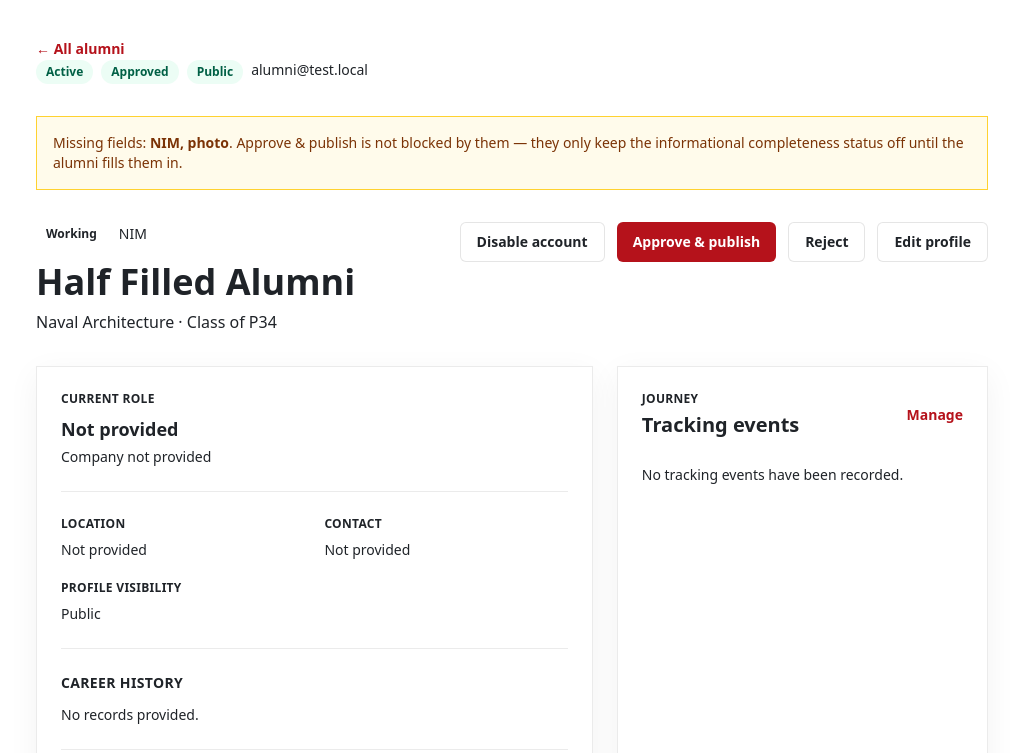
it: Alumni detail – review state › keeps Program out of the admin edit form and out of its payload
The width and height of the screenshot is (1024, 753).
Click the button "Edit profile" at x=933, y=242, box [878,222,988,262]
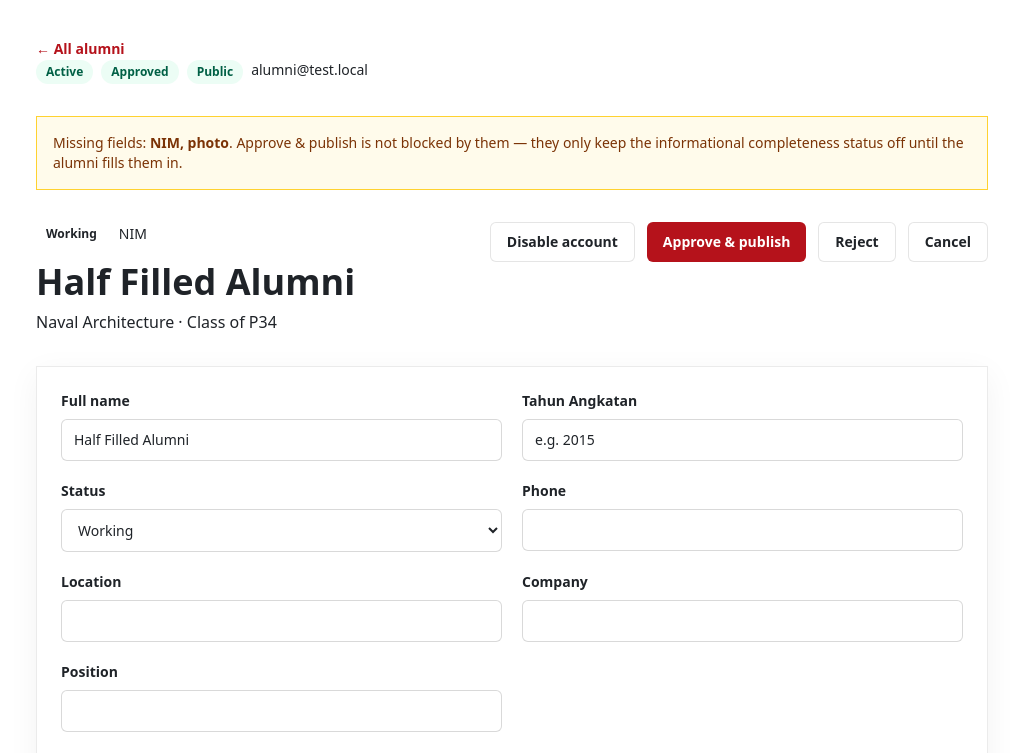
expect the text "Naval Architecture · Class of P34" is shown: met, box [36,311,277,333]
Replace the text in the field showing "Half Filled Alumni" below "Full name" with "Renamed By Admin" at x=282, y=440, box [61,419,502,461]
(page scrolled)
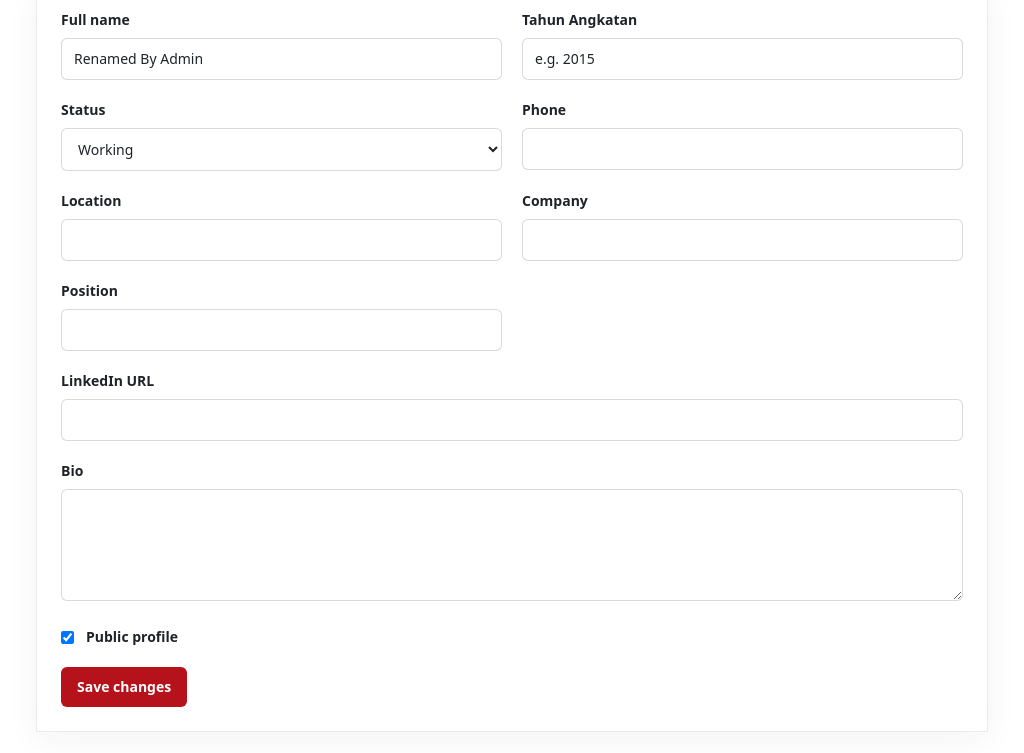
Click the button "Save changes" at x=124, y=687, box [61,667,187,707]
(page scrolled)
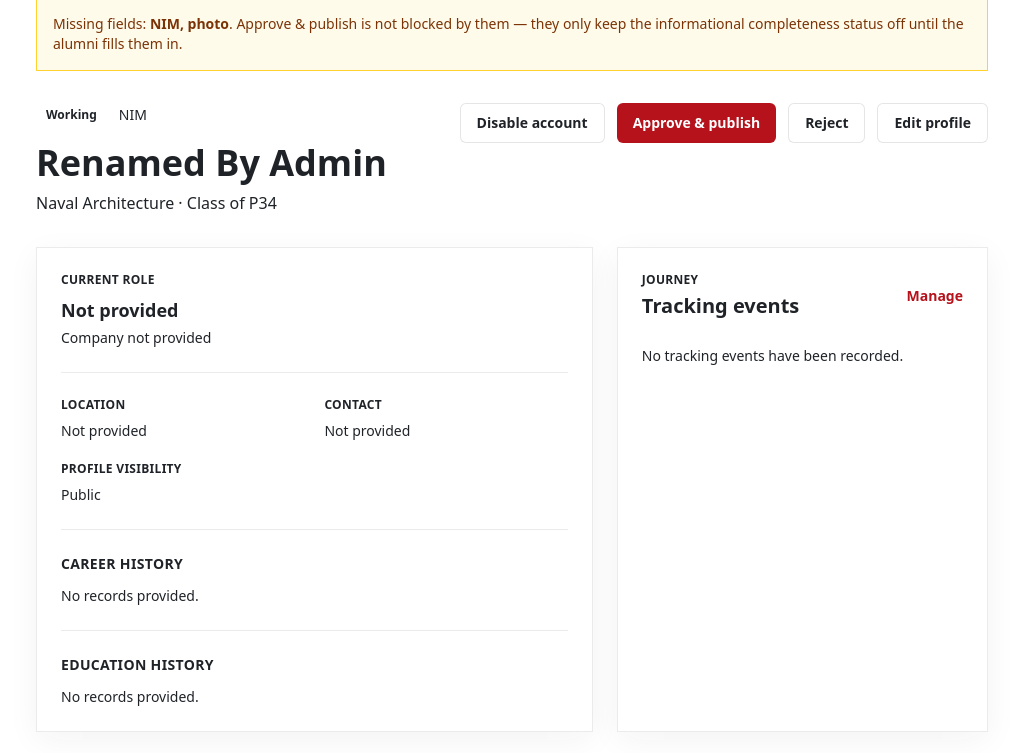
expect the heading "Renamed By Admin" reads "Renamed By Admin": met, box [36,138,387,187]
